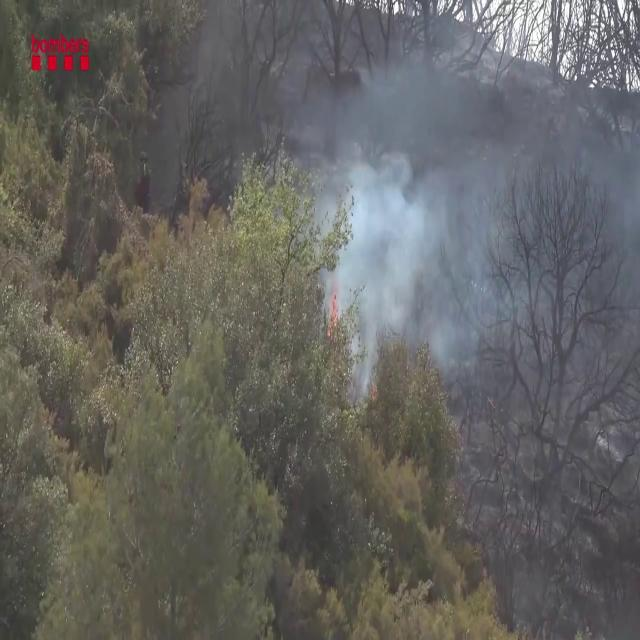Smoke: (324, 114, 504, 406)
